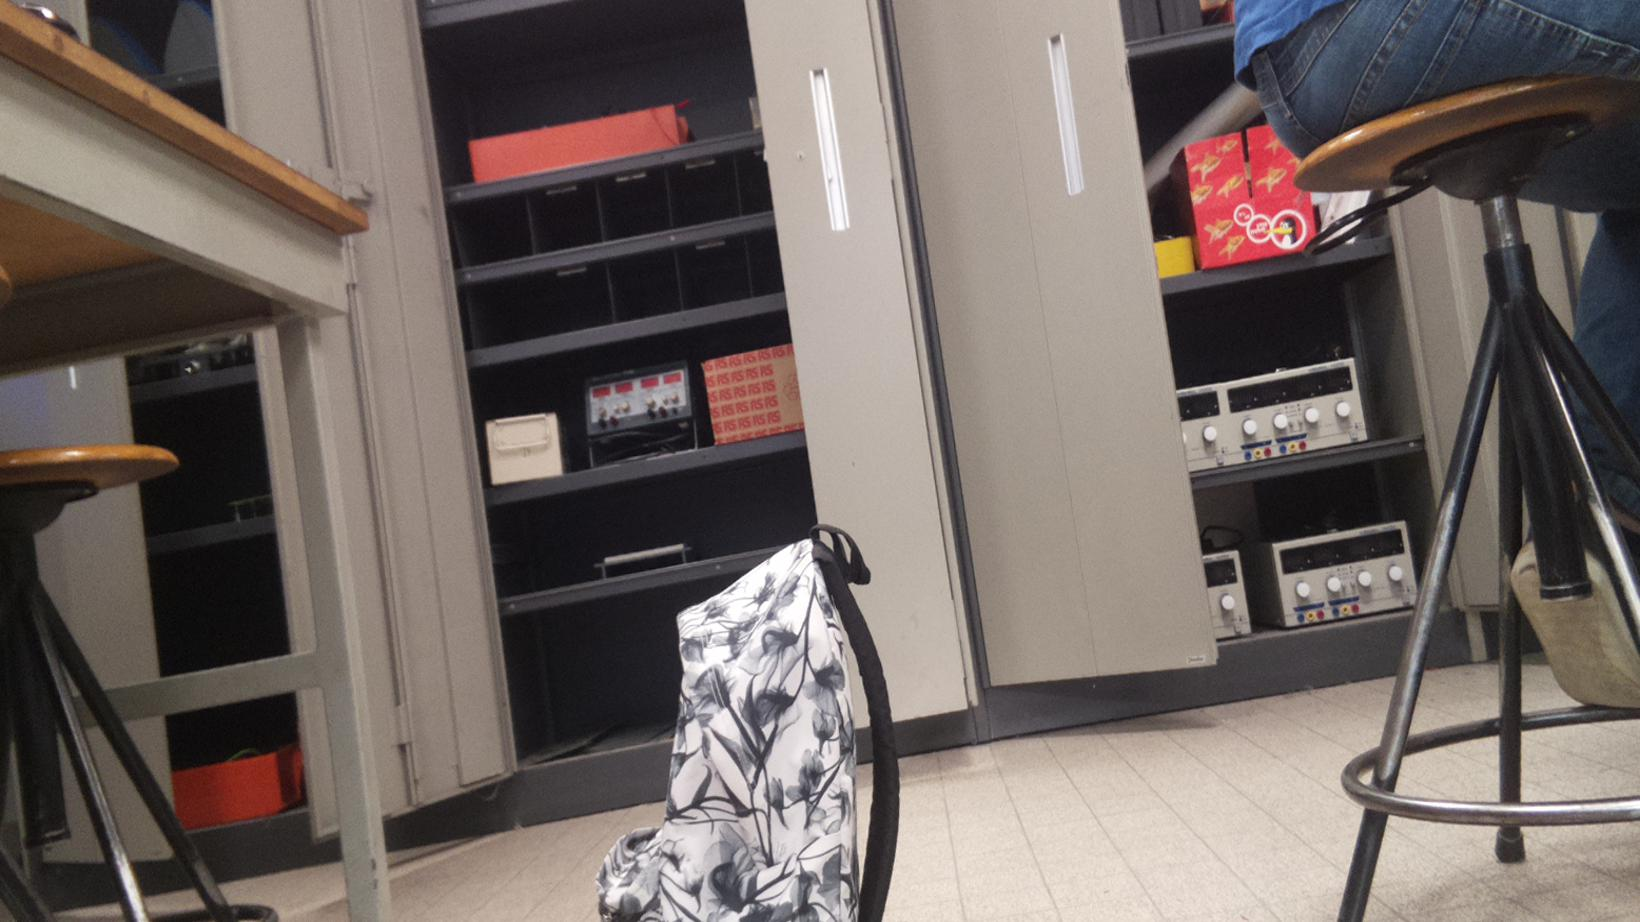big: (592, 529, 903, 922)
